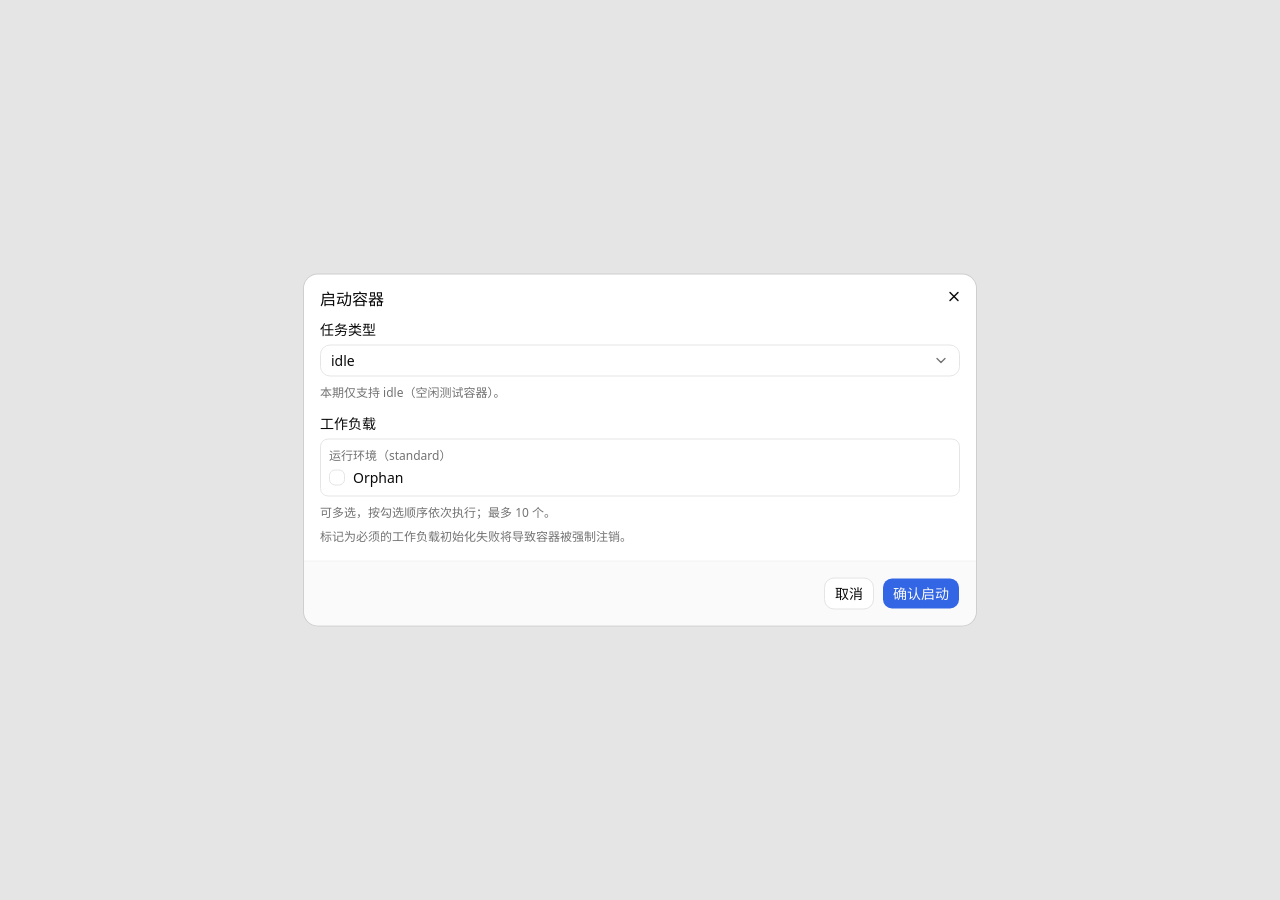
Scenario: StartContainerDialog (T-FP5/T-FP6/T-FP7) › T-FP6: blocks starting when a dependency no longer exists
Step 1. Click the checkbox named "Orphan" → (337, 478), box top-left (329, 470), bottom-right (345, 486)
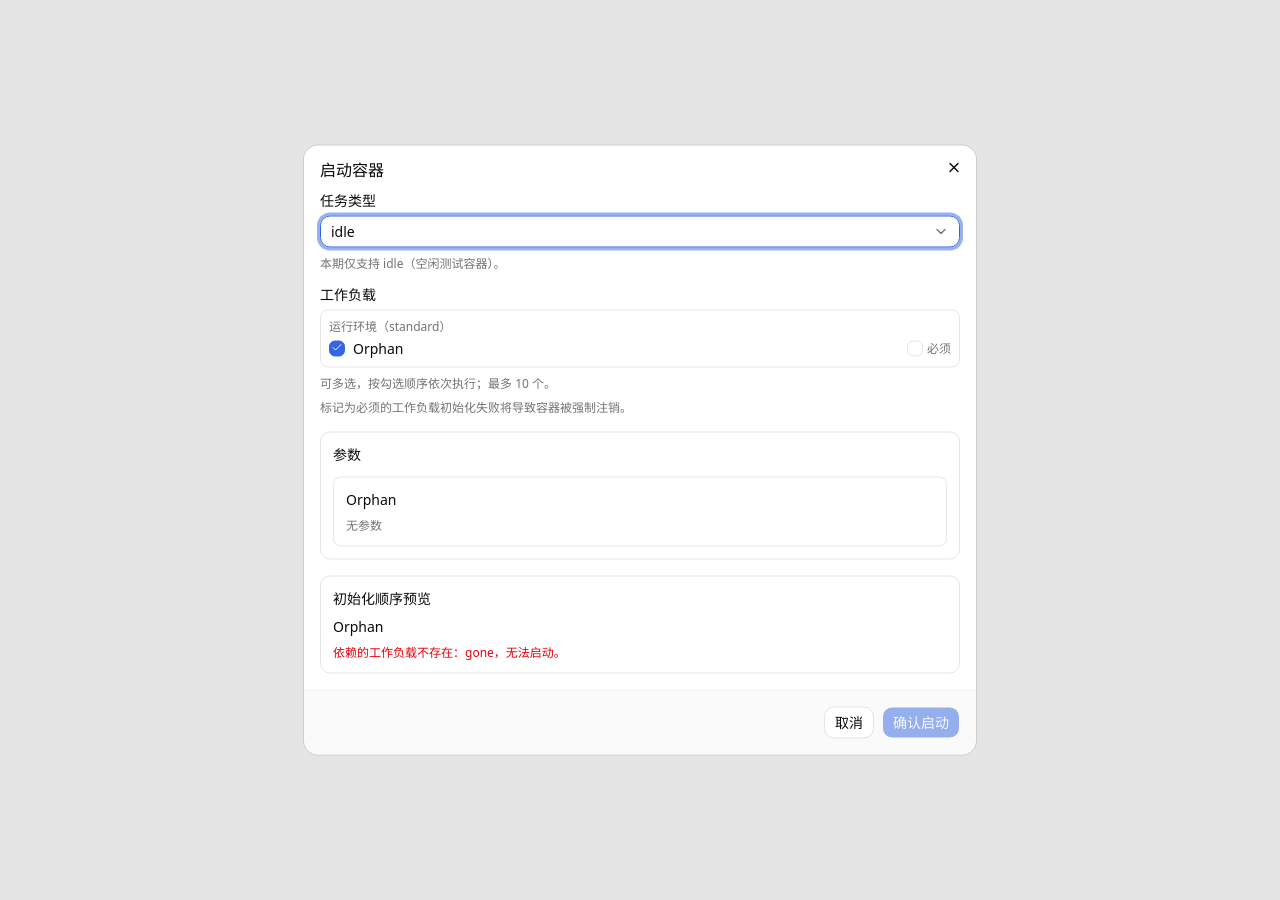
Now the text "依赖的工作负载不存在：gone，无法启动。" is shown, box top-left (333, 644), bottom-right (566, 660)
Now the button "确认启动" is disabled, box top-left (882, 706), bottom-right (960, 738)
